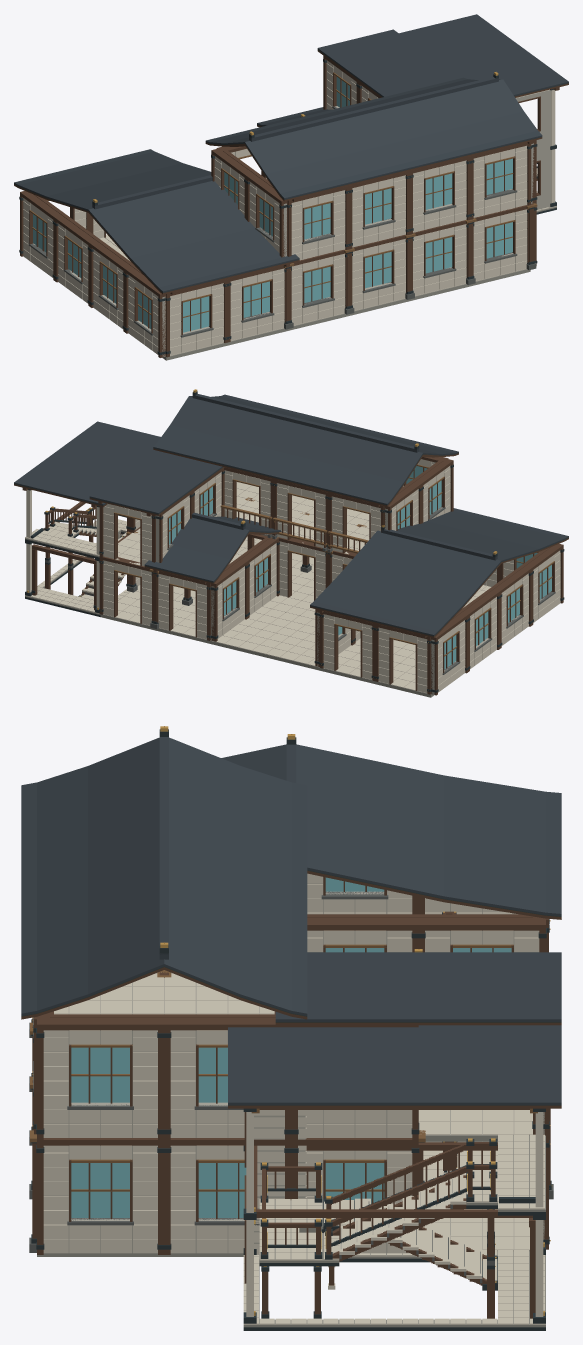
File: visual-far.glb
The picture shows the model from 3 angles, top to bottom: view 1: azimuth 30°, elevation 25°; view 2: azimuth 150°, elevation 25°; view 3: azimuth 270°, elevation 25°; orthographic projection. The views are drawn at different scales.
Parts seen in each view (by area): view 1: 真实窗洞与玻璃 (×17), 连续屋面 · gable (×2), 连续屋面 · flat (×2), 服务翼侧出口派生 · 原母版另存, 木柱、石础与金属抱箍; view 2: 连续屋面 · gable (×3), 真实窗洞与玻璃 (×11), 真实门洞墙 (×10), 连续屋面 · flat (×2), 石铺面与混凝土楼板 (×11), 服务翼侧出口派生 · 原母版另存, 廊边木栏与实际竖梃 (×3), 共享双跑回行踏步; view 3: 连续屋面 · gable (×2), 真实窗洞与玻璃 (×10), 连续屋面 · flat (×2), 服务翼侧出口派生 · 原母版另存, 石铺面与混凝土楼板 (×5), 共享双跑回行踏步, 共享楼梯半转平台, 共享双跑上行踏步.
Part boxes in pixels (box(x1,y1,x2,y2)): 真实窗洞与玻璃 (×17): box(19, 56, 531, 357); 连续屋面 · gable (×2): box(14, 72, 542, 294); 连续屋面 · flat (×2): box(317, 14, 568, 97); 服务翼侧出口派生 · 原母版另存: box(515, 89, 556, 214); 木柱、石础与金属抱箍: box(465, 218, 476, 284); 连续屋面 · gable (×3): box(144, 389, 568, 638); 真实窗洞与玻璃 (×11): box(155, 458, 564, 695); 真实门洞墙 (×10): box(99, 467, 430, 694); 连续屋面 · flat (×2): box(14, 421, 224, 516); 石铺面与混凝土楼板 (×11): box(100, 500, 434, 697); 服务翼侧出口派生 · 原母版另存: box(25, 489, 139, 616); 廊边木栏与实际竖梃 (×3): box(220, 505, 368, 553); 共享双跑回行踏步: box(44, 506, 96, 568); 连续屋面 · gable (×2): box(21, 726, 561, 1019); 真实窗洞与玻璃 (×10): box(36, 873, 546, 1254); 连续屋面 · flat (×2): box(228, 952, 561, 1113); 服务翼侧出口派生 · 原母版另存: box(243, 1108, 545, 1330); 石铺面与混凝土楼板 (×5): box(54, 973, 545, 1251); 共享双跑回行踏步: box(323, 1138, 497, 1266); 共享楼梯半转平台: box(259, 1162, 323, 1318); 共享双跑上行踏步: box(323, 1198, 497, 1290).
Bounding box in the file's own units: 24.4 × 8.74 × 13.6.
Materials: 17 (17 with a texture image).
